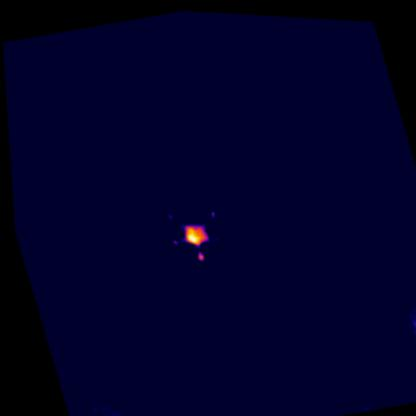drone: (161, 201, 224, 264)
